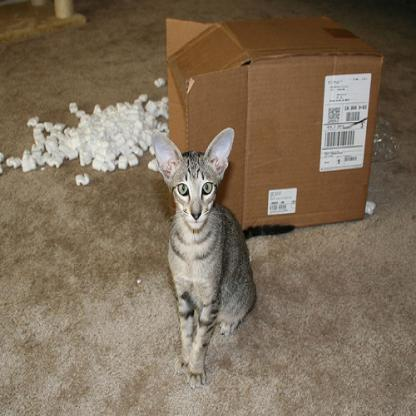cat: (148, 124, 296, 390)
